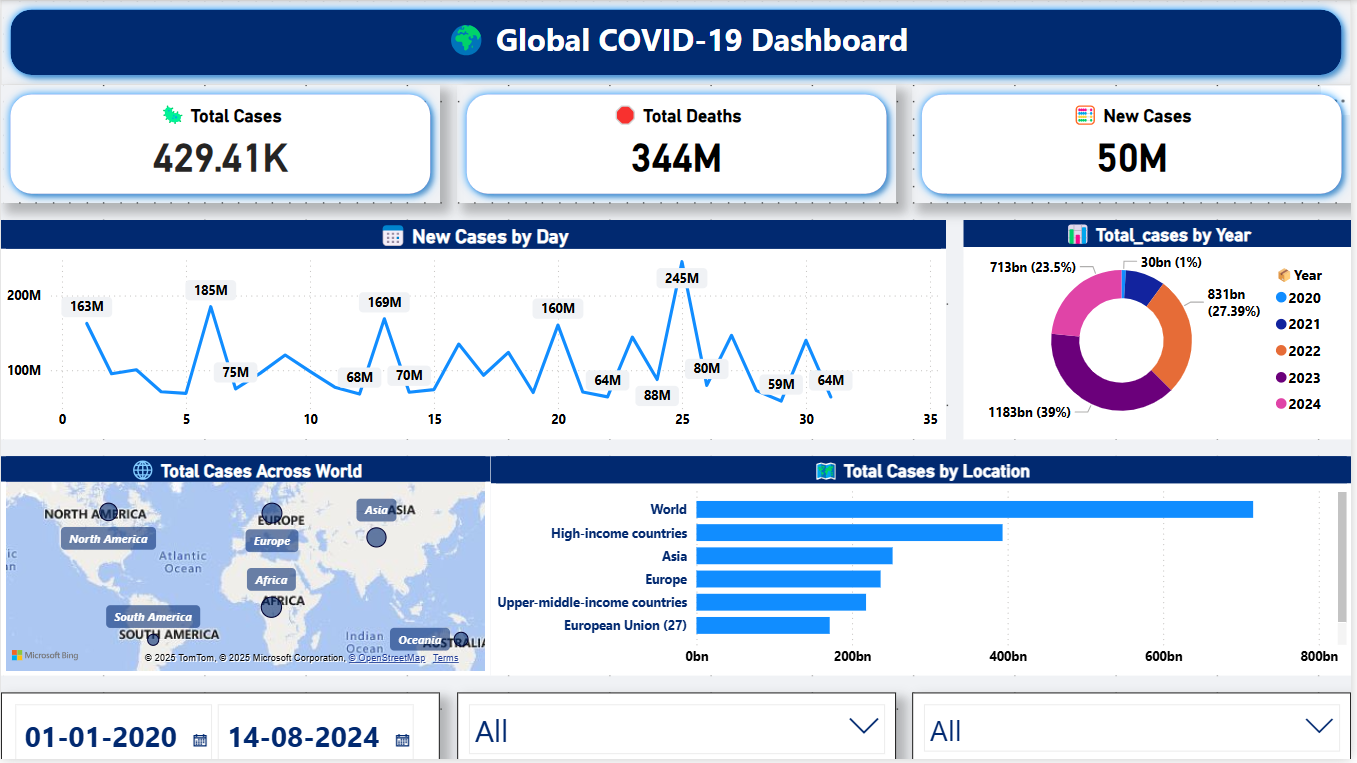

What the dashboard file says about the page in this screenshot:
{"tool":"powerbi","page":{"name":"Home","canvas":[1280,720],"ordinal":0},"visuals":[{"type":"shape","box":[0,0,1280,80],"z":0},{"type":"textbox","title":"🌍 Global COVID-19 Dashboard","box":[16,16,1248,48],"z":1},{"type":"shape","box":[0,80,416,112],"z":2},{"type":"shape","box":[432,80,416,112],"z":3},{"type":"shape","box":[864,80,416,112],"z":4},{"type":"card","title":"🛑 Total Deaths","fields":{"Values":["Sum(cleaned_covid_data.total_deaths_per_million)"]},"box":[464,96,352,80],"z":7},{"type":"card","title":"🧮    New Cases","fields":{"Values":["Sum(cleaned_covid_data.new_cases_per_million)"]},"box":[896,96,352,80],"z":8},{"type":"card","title":"🦠   Total Cases","fields":{"Values":["CountNonNull(cleaned_covid_data.total_cases)"]},"box":[32,96,352,80],"z":9},{"type":"lineChart","title":"📅  New Cases by Day","fields":{"Category":["cleaned_covid_data.date.Variation.Date Hierarchy.Day"],"Y":["Sum(cleaned_covid_data.new_cases)"]},"box":[0,208,896,208],"z":10},{"type":"donutChart","title":"📊  Total_cases by Year","fields":{"Category":["cleaned_covid_data.date.Variation.Date Hierarchy.Year","cleaned_covid_data.date.Variation.Date Hierarchy.Quarter","cleaned_covid_data.date.Variation.Date Hierarchy.Month","cleaned_covid_data.date.Variation.Date Hierarchy.Day"],"Y":["Sum(cleaned_covid_data.total_cases)"]},"box":[912,208,368,208],"z":11},{"type":"map","title":"🌐 Total Cases Across World","fields":{"Category":["cleaned_covid_data.continent"],"Size":["CountNonNull(cleaned_covid_data.total_cases)"]},"box":[0,432,464,208],"z":12},{"type":"barChart","title":"🗺️  Total Cases by Location","fields":{"Category":["cleaned_covid_data.location"],"Y":["Sum(cleaned_covid_data.total_cases)"]},"box":[464,432,816,208],"z":13},{"type":"slicer","fields":{"Values":["cleaned_covid_data.date"]},"box":[0,656,416,64],"z":14},{"type":"slicer","fields":{"Values":["cleaned_covid_data.continent"]},"box":[432,656,416,64],"z":15},{"type":"slicer","fields":{"Values":["cleaned_covid_data.location"]},"box":[864,656,416,64],"z":16}]}

Visuals, with their boxes in screenshot pixels (x1, y1, x2, y2), scaled from the page's 1280x720 canvas onto the 1357x763 screenshot:
shape: 0 0 1356 85
"🌍 Global COVID-19 Dashboard" textbox: 17 17 1340 68
shape: 0 85 441 203
shape: 458 85 899 203
shape: 916 85 1356 203
"🛑 Total Deaths" card: 492 102 865 187
"🧮    New Cases" card: 950 102 1323 187
"🦠   Total Cases" card: 34 102 407 187
"📅  New Cases by Day" lineChart: 0 220 950 441
"📊  Total_cases by Year" donutChart: 967 220 1356 441
"🌐 Total Cases Across World" map: 0 458 492 678
"🗺️  Total Cases by Location" barChart: 492 458 1356 678
slicer - cleaned_covid_data.date: 0 695 441 762
slicer - cleaned_covid_data.continent: 458 695 899 762
slicer - cleaned_covid_data.location: 916 695 1356 762
